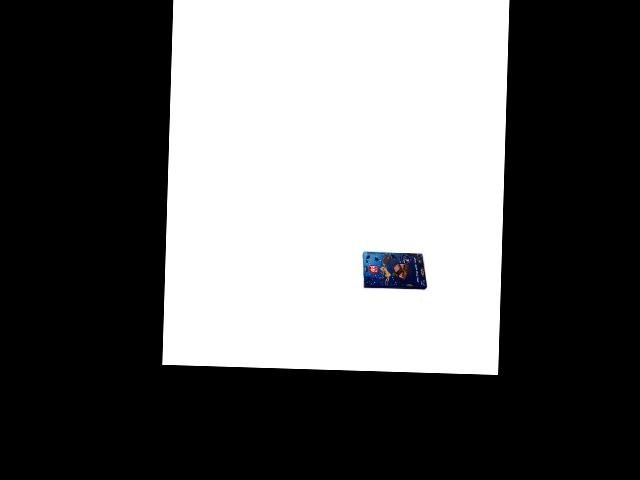chocolate: (360, 246, 428, 294)
